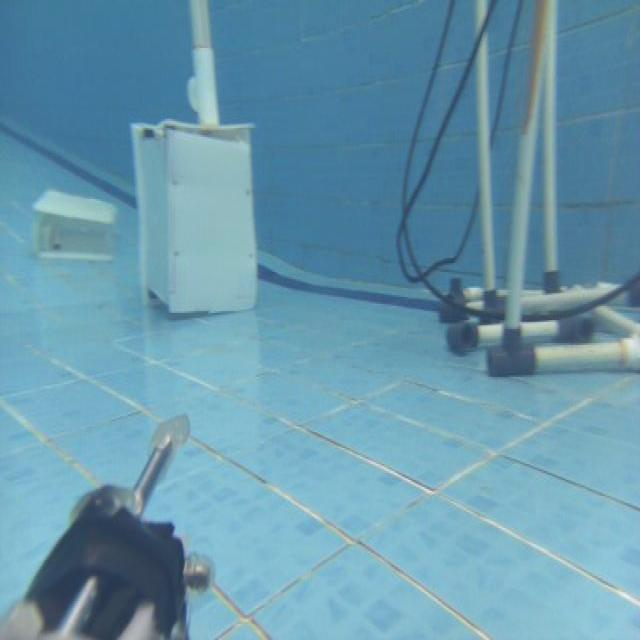Cube: (129, 114, 259, 316)
Cuboid: (31, 185, 117, 263)
